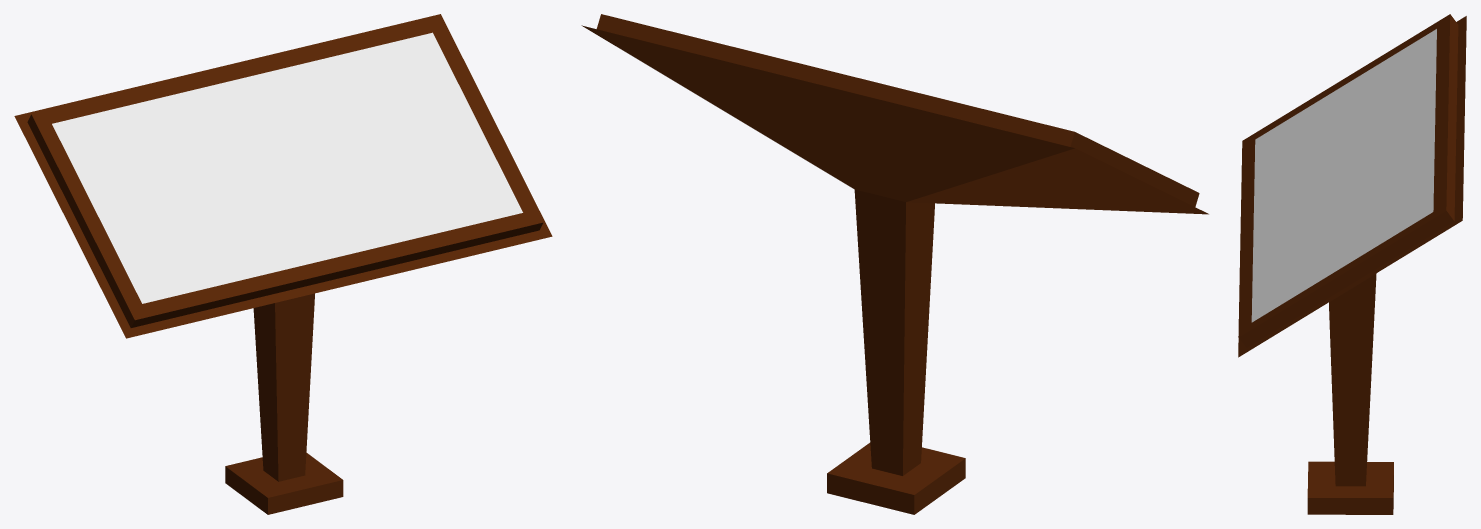
The model's file is 92 - Mappa Interattiva.glb.
3 renders of one model, left to right at view 1: azimuth 30°, elevation 25°; view 2: azimuth 150°, elevation 25°; view 3: azimuth 270°, elevation 25°, orthographic. The views are drawn at different scales.
Parts seen in each view (by area): view 1: 92 - Mappa interattiva con aggiunta audio; view 2: 92 - Mappa interattiva con aggiunta audio; view 3: 92 - Mappa interattiva con aggiunta audio.
Boxes of the visible parts, x1=… form: 92 - Mappa interattiva con aggiunta audio: x1=14, y1=14, x2=552, y2=514; 92 - Mappa interattiva con aggiunta audio: x1=581, y1=14, x2=1208, y2=514; 92 - Mappa interattiva con aggiunta audio: x1=1238, y1=14, x2=1466, y2=514.
Bounding box in the file's own units: 0.9964 × 0.8684 × 0.4675.
